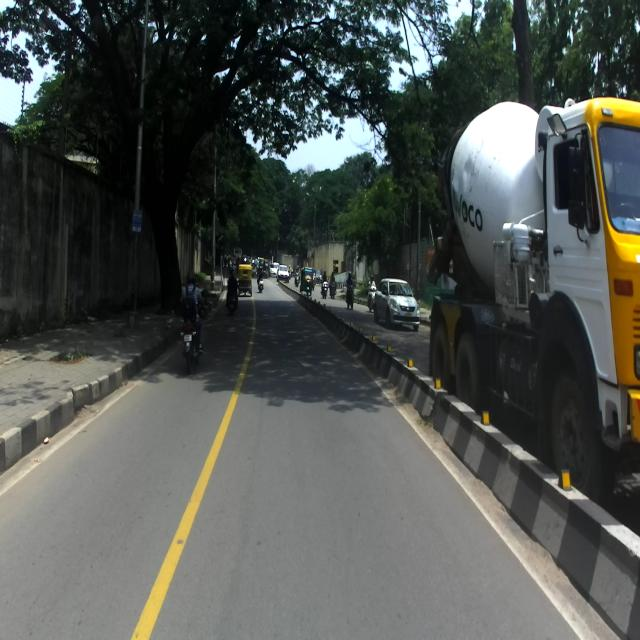electric pole ahead at: (127, 3, 155, 332)
motorcycle ahead at: (171, 304, 211, 378)
truck ahead at: (427, 91, 640, 482)
